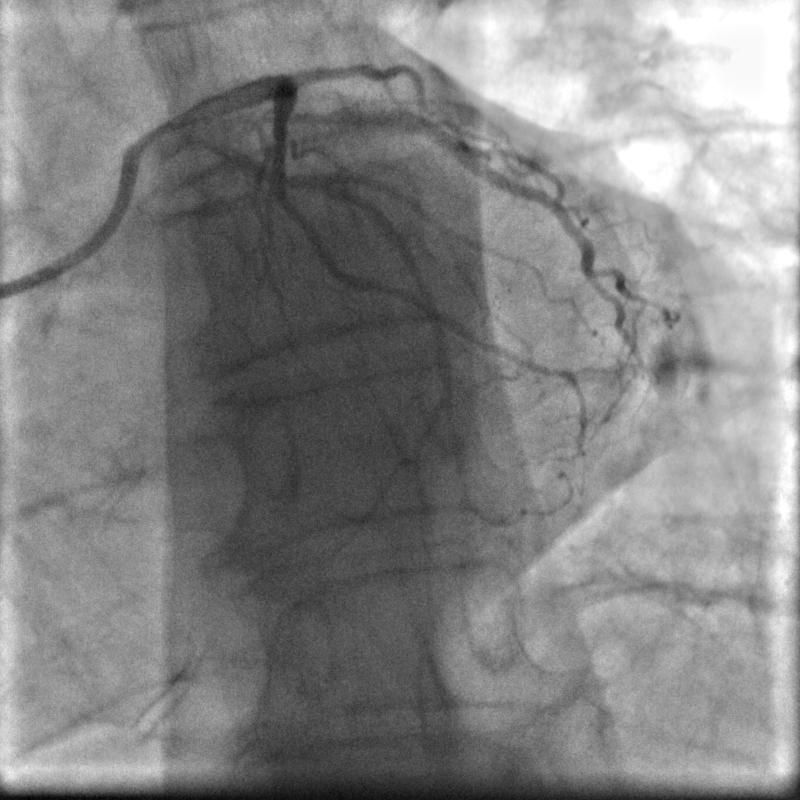Stenosis: (267, 97, 293, 153)
